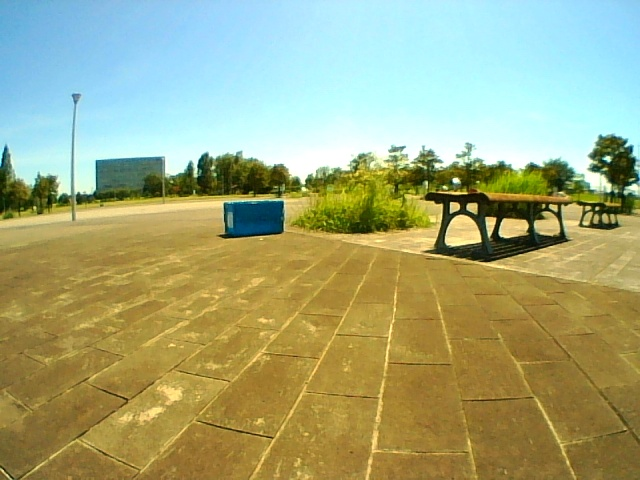blue_box: (225, 202, 284, 234)
tag: (227, 212, 233, 226)
